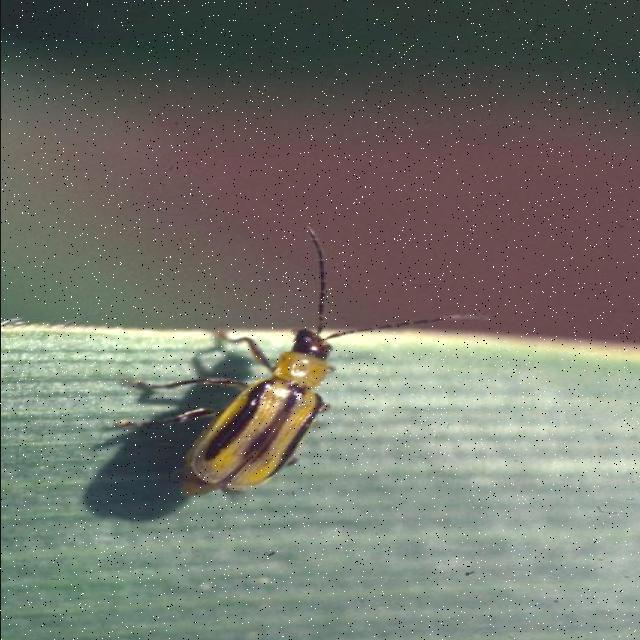trips: (115, 226, 492, 488)
